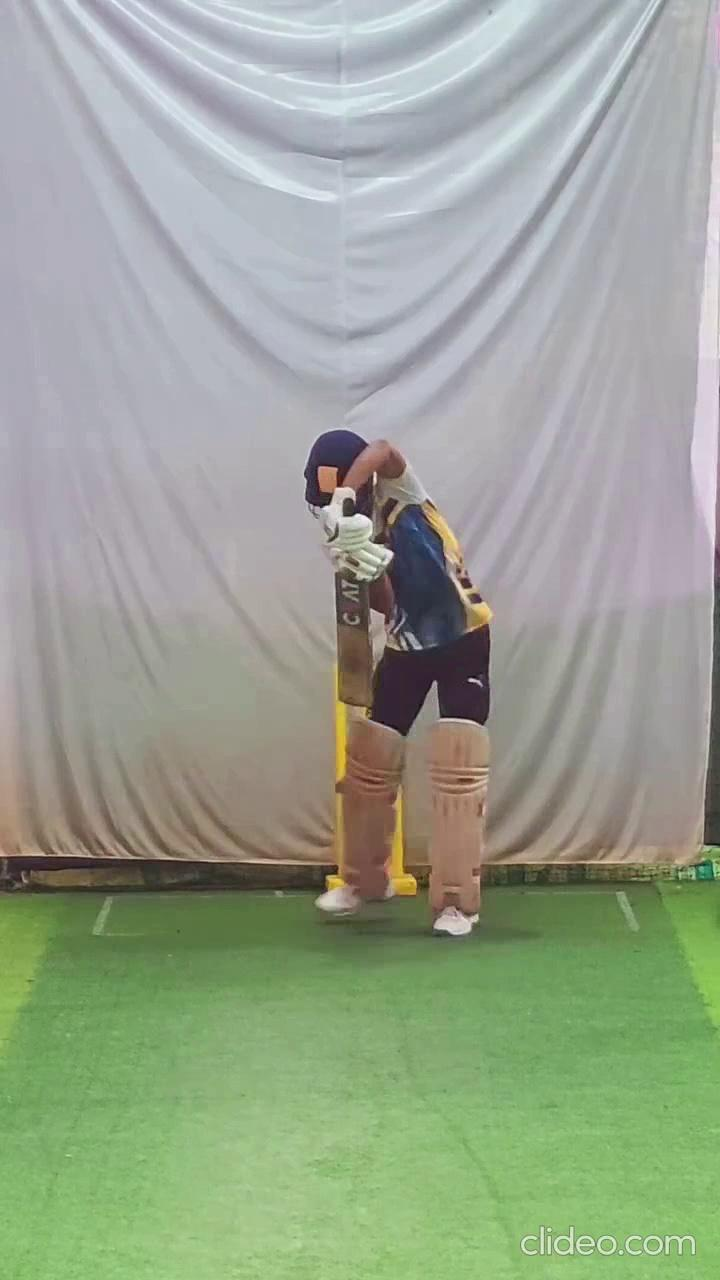bat: (333, 571, 374, 711)
